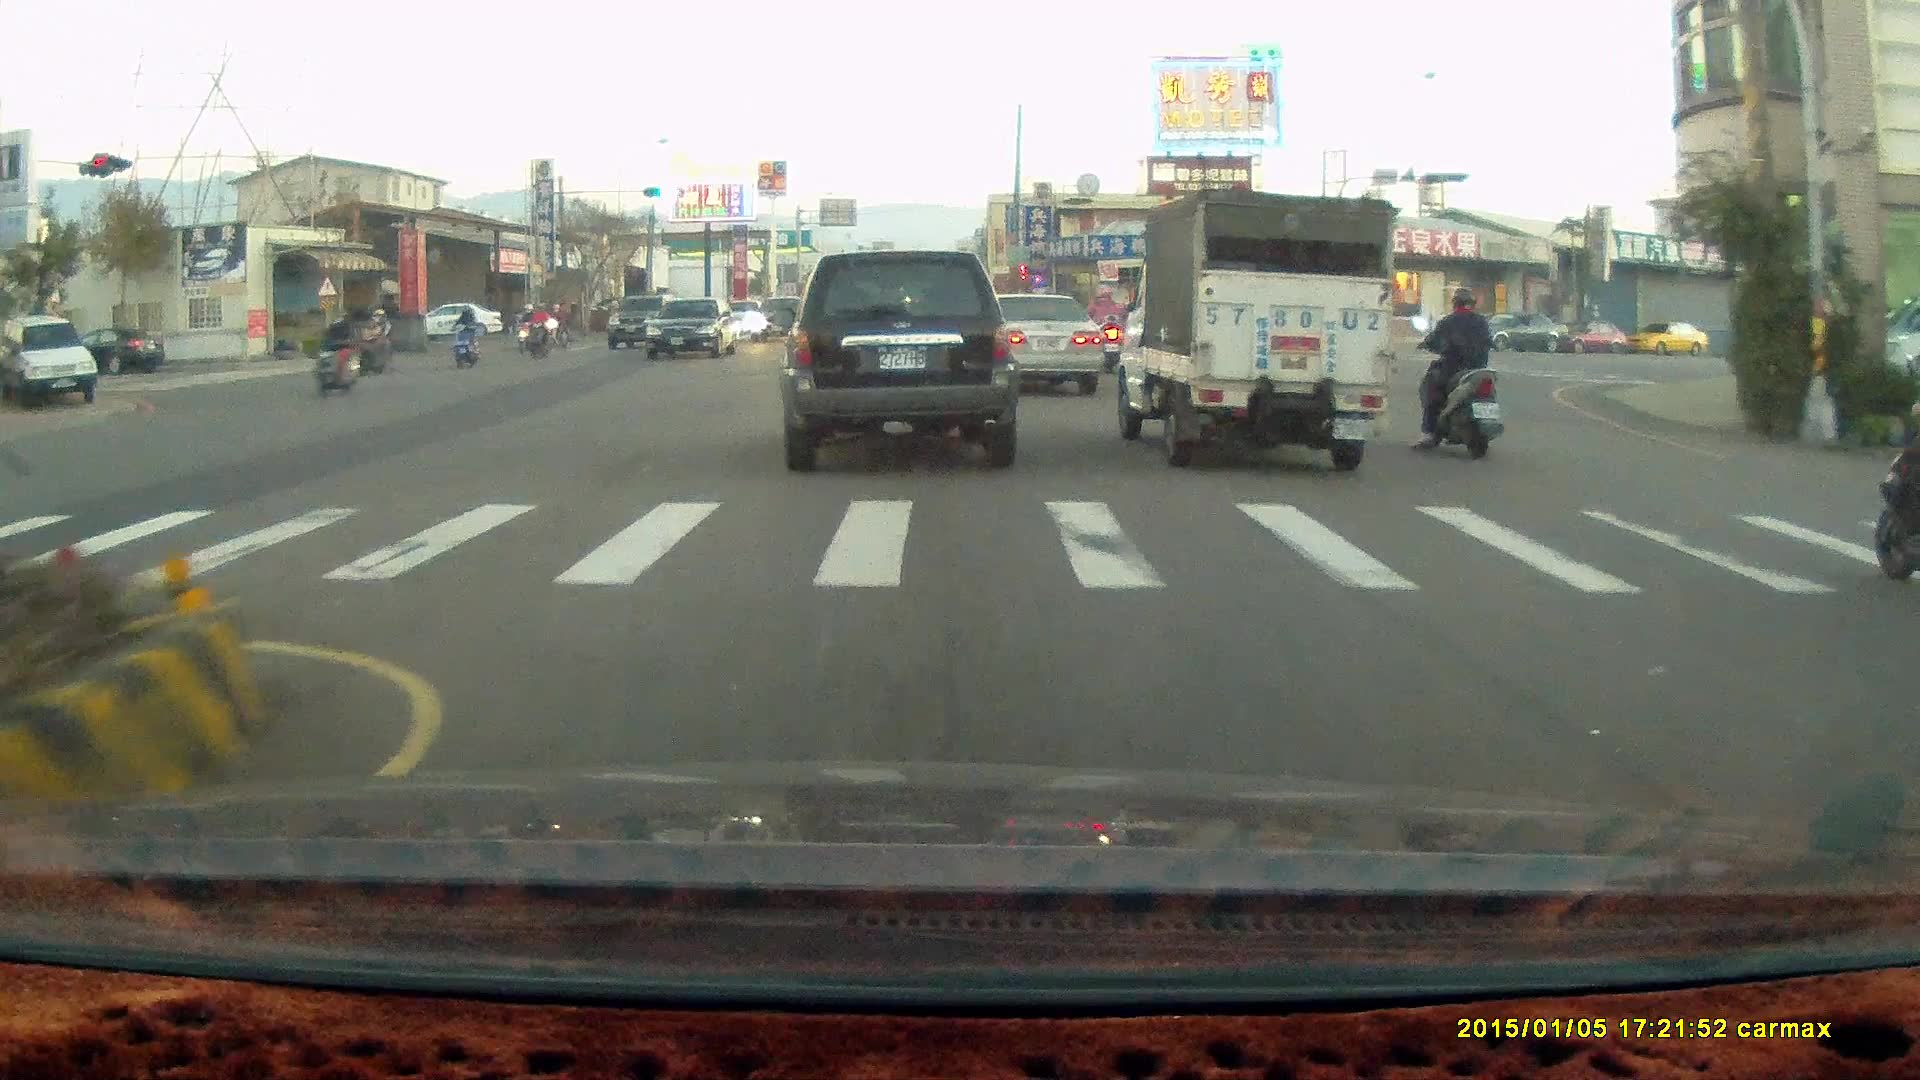rider: (1408, 281, 1506, 462), (1872, 422, 1920, 582), (315, 314, 360, 395), (355, 303, 396, 377), (449, 301, 479, 367), (522, 297, 552, 356), (513, 298, 543, 351)
vehicle: (1111, 186, 1395, 470), (777, 250, 1020, 472), (971, 290, 1107, 398), (969, 289, 1102, 392), (1, 314, 101, 408), (643, 296, 743, 363), (1464, 312, 1571, 357), (424, 303, 505, 342), (1878, 327, 1920, 395), (1558, 320, 1630, 357)
